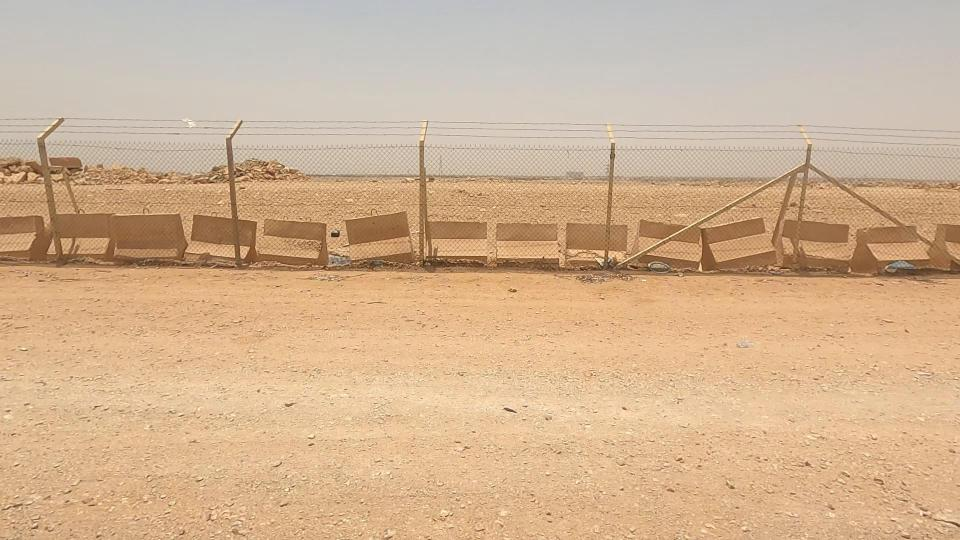GARBAGE: (852, 233, 945, 293), (571, 222, 638, 305), (293, 238, 383, 284), (630, 244, 695, 289)
